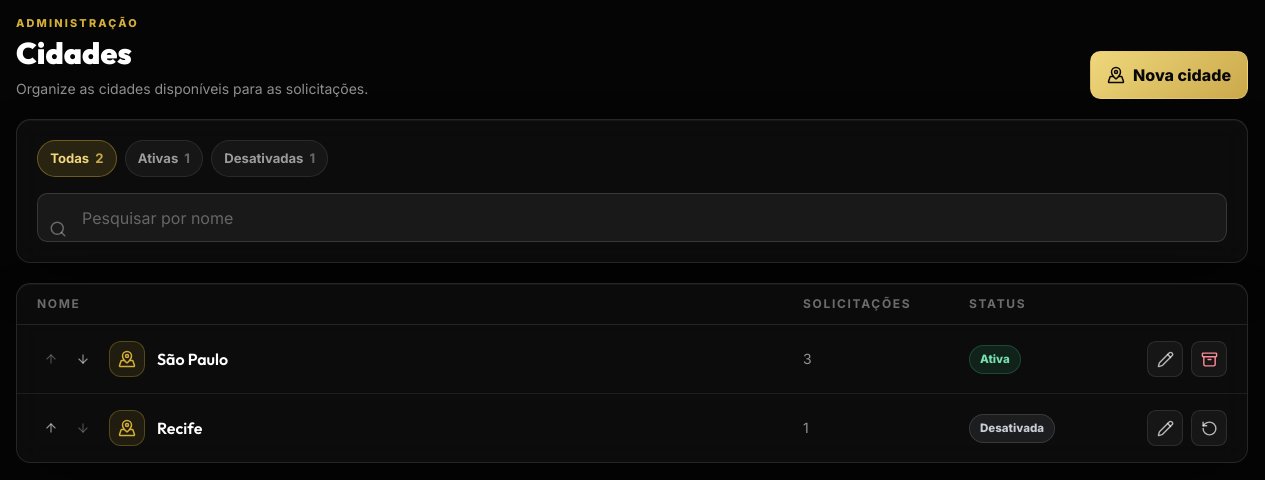
Scenario: CitiesPanel › atualiza contagens por relacionamento sem perder filtro, consulta e ordem
Click the button "Ativas 1" at (164,159), box top-left (125, 140), bottom-right (203, 177)
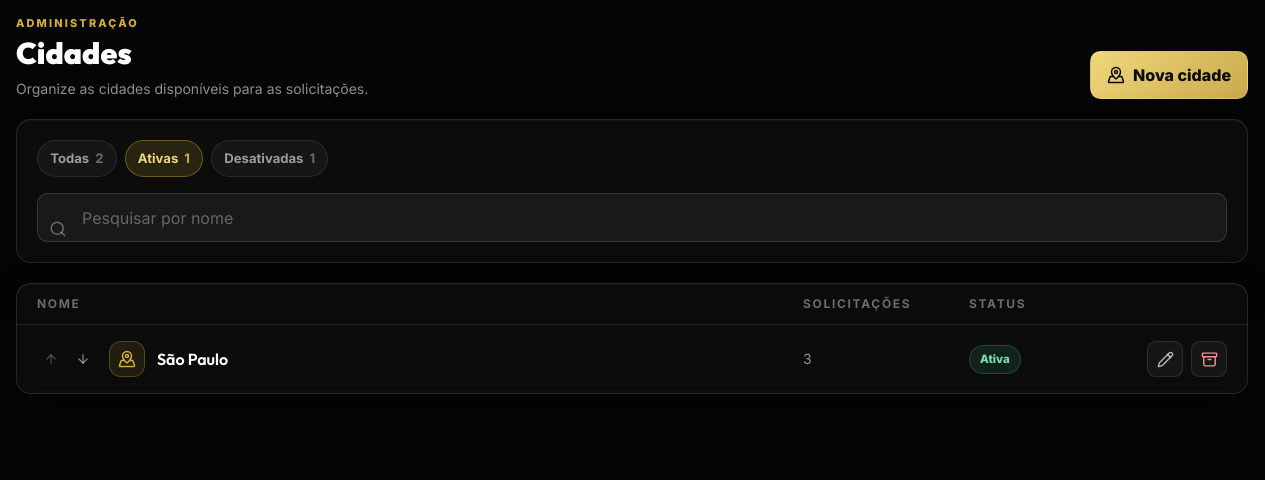
Type "são" into the field named "Pesquisar cidades" at (632,218), box top-left (37, 193), bottom-right (1227, 242)
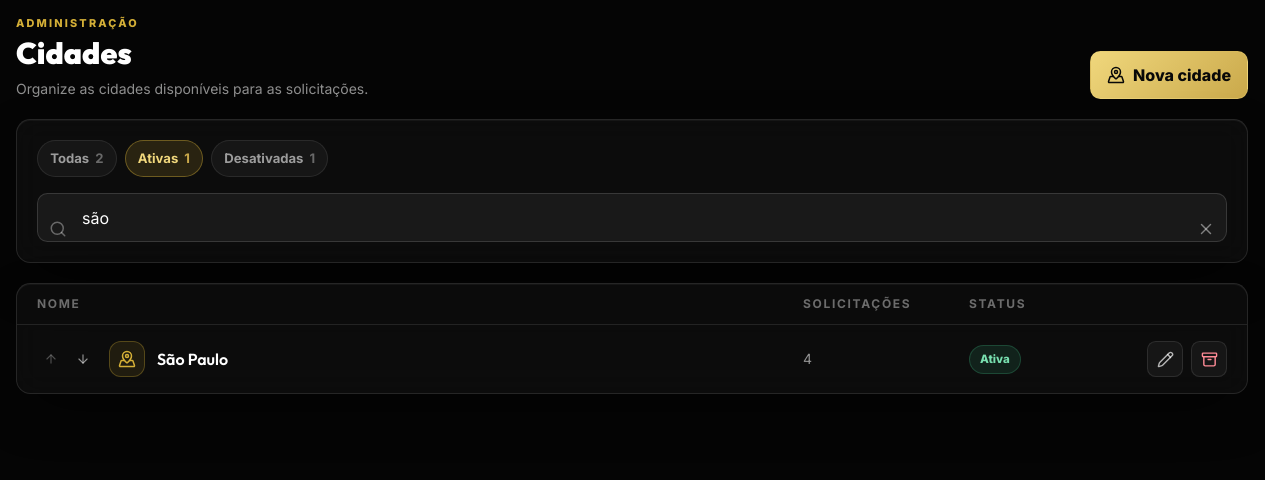
expect the heading "Recife" is not shown: met
expect the text "4" is shown: met, box top-left (803, 350), bottom-right (812, 367)
